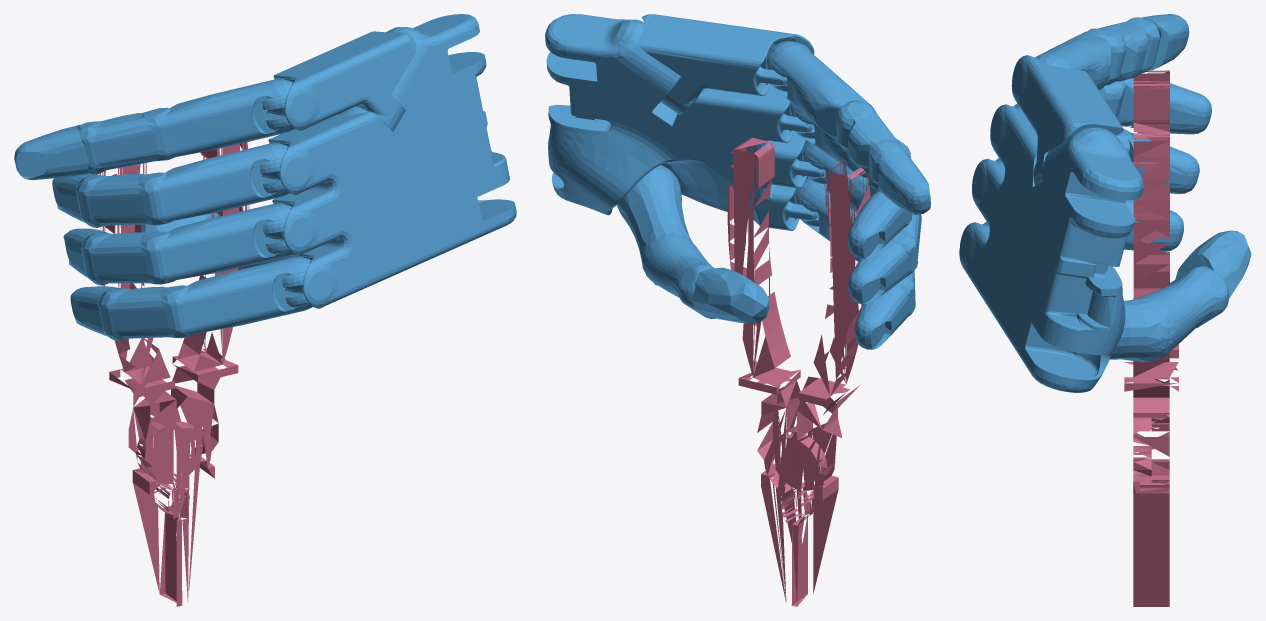
3 views of the same model, side by side, from view 1: azimuth 30°, elevation 25°; view 2: azimuth 150°, elevation 25°; view 3: azimuth 270°, elevation 25° (orthographic). The views are drawn at different scales.
Parts seen in each view (by area): view 1: 0; view 2: 0; view 3: 0.
Part boxes in pixels (<box>): 0: <box>14,14,516,606</box>; 0: <box>545,14,930,606</box>; 0: <box>959,14,1251,606</box>.
Size of the model in its own units: 0.1883 by 0.2197 by 0.0996.
